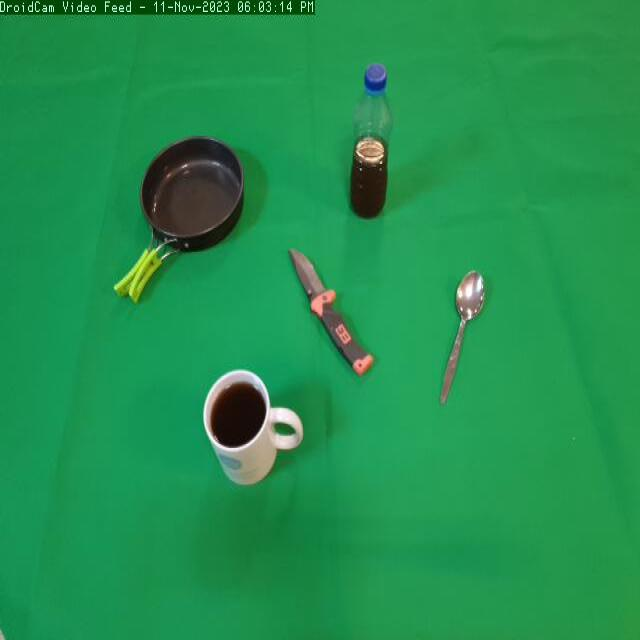fullbottle: (345, 59, 400, 232)
fullcup: (198, 361, 308, 504)
knife: (282, 236, 383, 384)
pan: (108, 131, 251, 310)
spoon: (424, 264, 497, 412)
